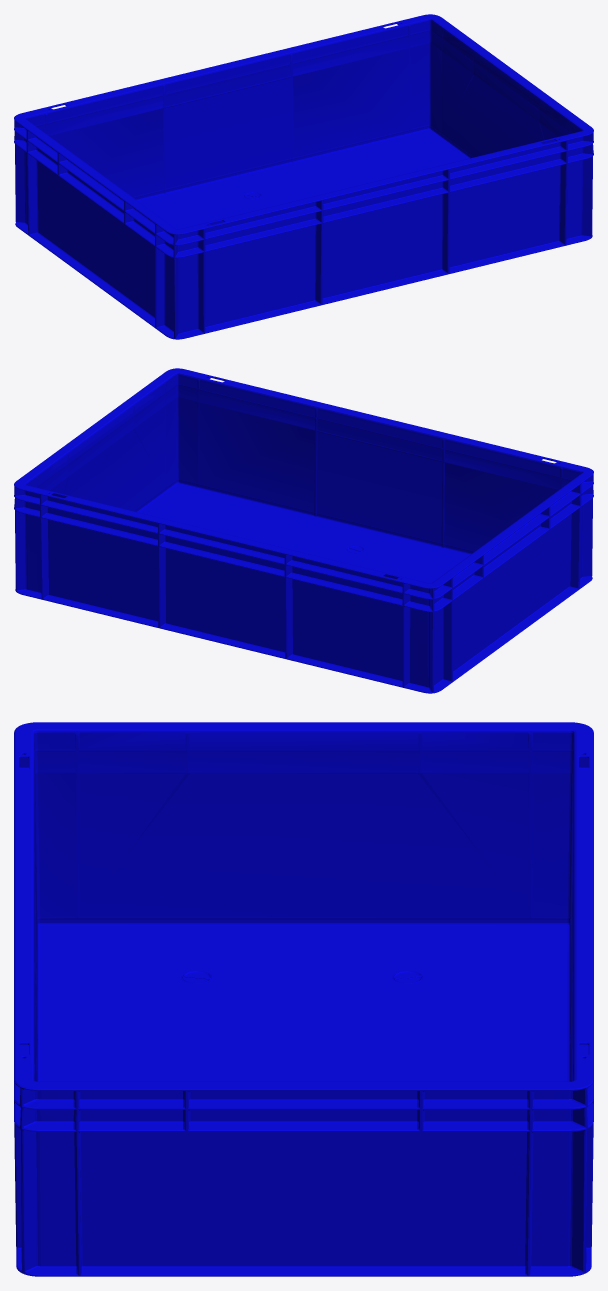
File: tote.dae
The picture shows the model from 3 angles, top to bottom: view 1: azimuth 30°, elevation 25°; view 2: azimuth 150°, elevation 25°; view 3: azimuth 270°, elevation 25°; orthographic projection. The views are drawn at different scales.
Parts seen in each view (by area): view 1: Container_C05_01; view 2: Container_C05_01; view 3: Container_C05_01.
Part boxes in pixels (<box>): Container_C05_01: <box>14,14,593,339</box>; Container_C05_01: <box>14,368,593,693</box>; Container_C05_01: <box>14,722,593,1276</box>.
Size of the model in its own units: 0.6 by 0.4 by 0.15.
